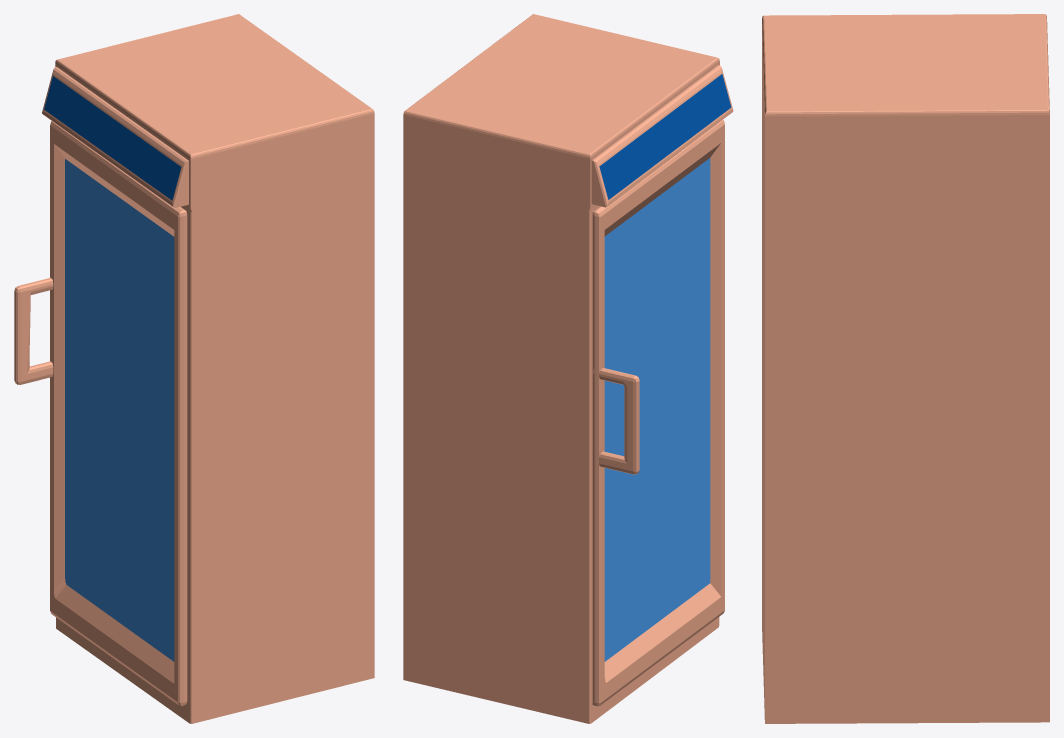
Rendered from Machine.fbx.
3 views of the same model, side by side, from view 1: azimuth 30°, elevation 25°; view 2: azimuth 150°, elevation 25°; view 3: azimuth 270°, elevation 25° (orthographic). The views are drawn at different scales.
Parts seen in each view (by area): view 1: Machine, Machine door; view 2: Machine, Machine door; view 3: Machine.
Boxes of the visible parts, box(x1,y1,x2,y2) form: Machine: box(42, 14, 374, 723); Machine door: box(14, 121, 187, 706); Machine: box(403, 14, 733, 723); Machine door: box(592, 120, 724, 706); Machine: box(762, 14, 1049, 723).
Bounding box in the file's own units: 111 × 258 × 110.
